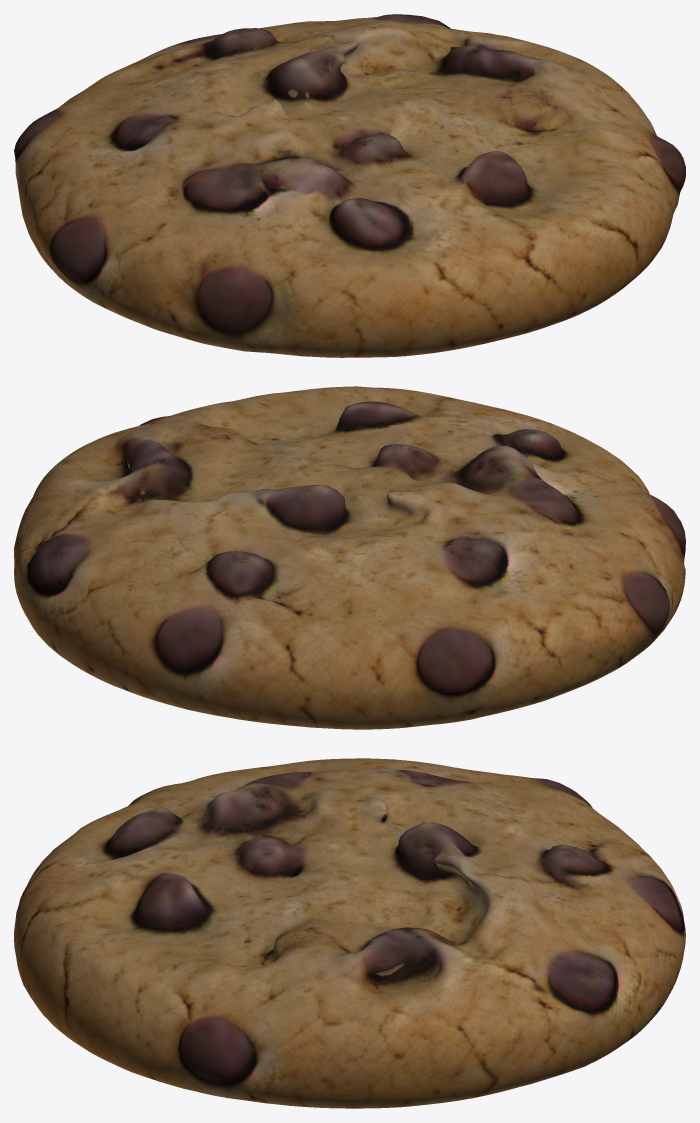
The model's file is chocolate_cookies.glb.
The picture shows the model from 3 angles, top to bottom: view 1: azimuth 30°, elevation 25°; view 2: azimuth 150°, elevation 25°; view 3: azimuth 270°, elevation 25°; orthographic projection. The views are drawn at different scales.
Parts seen in each view (by area): view 1: mesh_base_material_0; view 2: mesh_base_material_0; view 3: mesh_base_material_0.
Boxes of the visible parts, box(x1,y1,x2,y2) form: mesh_base_material_0: box(14, 14, 685, 357); mesh_base_material_0: box(14, 386, 685, 729); mesh_base_material_0: box(14, 758, 685, 1108).
Size of the model in its own units: 0.9988 by 0.2825 by 0.9665.
1 material, 1 textured.
